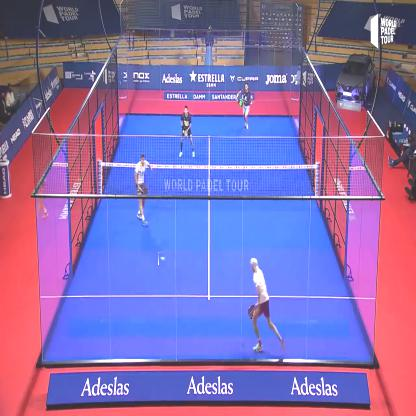ball: (158, 252, 167, 266)
